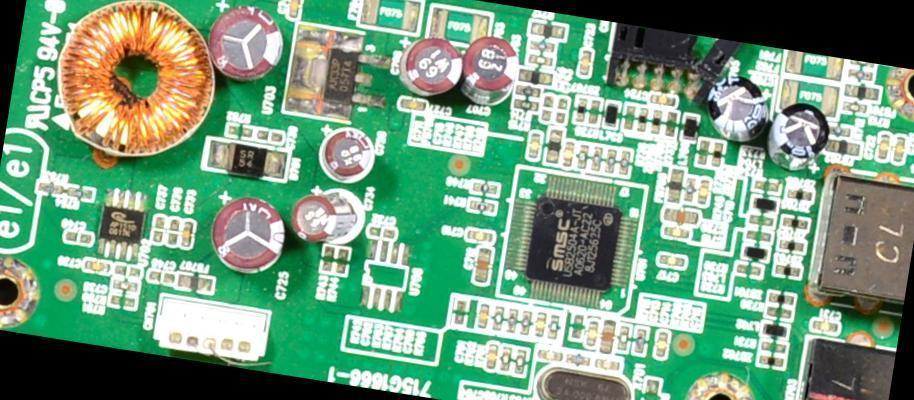Capacitor: (202, 184, 295, 274), (200, 0, 290, 84), (308, 121, 403, 192), (383, 29, 470, 105), (459, 31, 520, 123), (285, 179, 364, 249), (395, 94, 456, 119), (621, 88, 683, 112), (359, 216, 407, 247), (459, 219, 500, 247), (468, 297, 495, 333), (653, 247, 693, 271), (890, 123, 911, 167), (874, 123, 896, 164), (572, 43, 597, 78), (807, 315, 841, 337), (470, 249, 491, 284), (254, 126, 287, 148), (661, 208, 699, 227), (566, 310, 587, 344), (145, 265, 177, 287), (661, 224, 695, 244), (654, 324, 672, 361), (149, 212, 169, 244), (109, 273, 141, 293), (592, 356, 624, 376), (526, 127, 544, 161), (65, 227, 94, 248), (535, 345, 564, 365), (584, 316, 601, 350), (599, 321, 616, 354), (484, 339, 500, 374), (180, 217, 196, 251), (282, 0, 310, 19), (165, 214, 181, 247), (562, 138, 579, 168), (85, 258, 111, 275), (534, 308, 548, 338), (699, 177, 711, 206)
IC: (498, 172, 645, 313), (280, 20, 368, 127), (353, 239, 426, 317), (199, 135, 300, 189), (98, 182, 162, 264)
Resistor: (743, 208, 779, 247), (522, 36, 562, 68), (462, 196, 501, 219), (466, 177, 503, 200), (105, 285, 139, 310), (834, 93, 870, 116), (447, 294, 470, 329), (69, 179, 100, 204), (226, 114, 255, 140), (634, 323, 654, 360), (318, 236, 338, 272), (564, 348, 595, 371), (38, 174, 68, 197), (335, 240, 354, 276), (570, 95, 590, 126), (617, 320, 635, 354), (848, 60, 877, 81), (585, 98, 604, 130), (753, 177, 781, 198), (517, 308, 536, 338), (736, 260, 765, 279), (763, 303, 795, 320), (681, 173, 699, 203), (711, 137, 727, 168), (498, 342, 514, 373), (513, 347, 530, 376), (591, 143, 606, 174), (504, 302, 519, 333), (619, 148, 634, 178), (622, 104, 638, 132), (512, 85, 541, 100), (512, 99, 539, 115), (697, 134, 712, 162), (758, 342, 787, 356), (577, 143, 590, 171), (547, 311, 560, 339), (493, 306, 505, 331), (606, 149, 617, 172)
Transistor: (601, 22, 713, 100)
